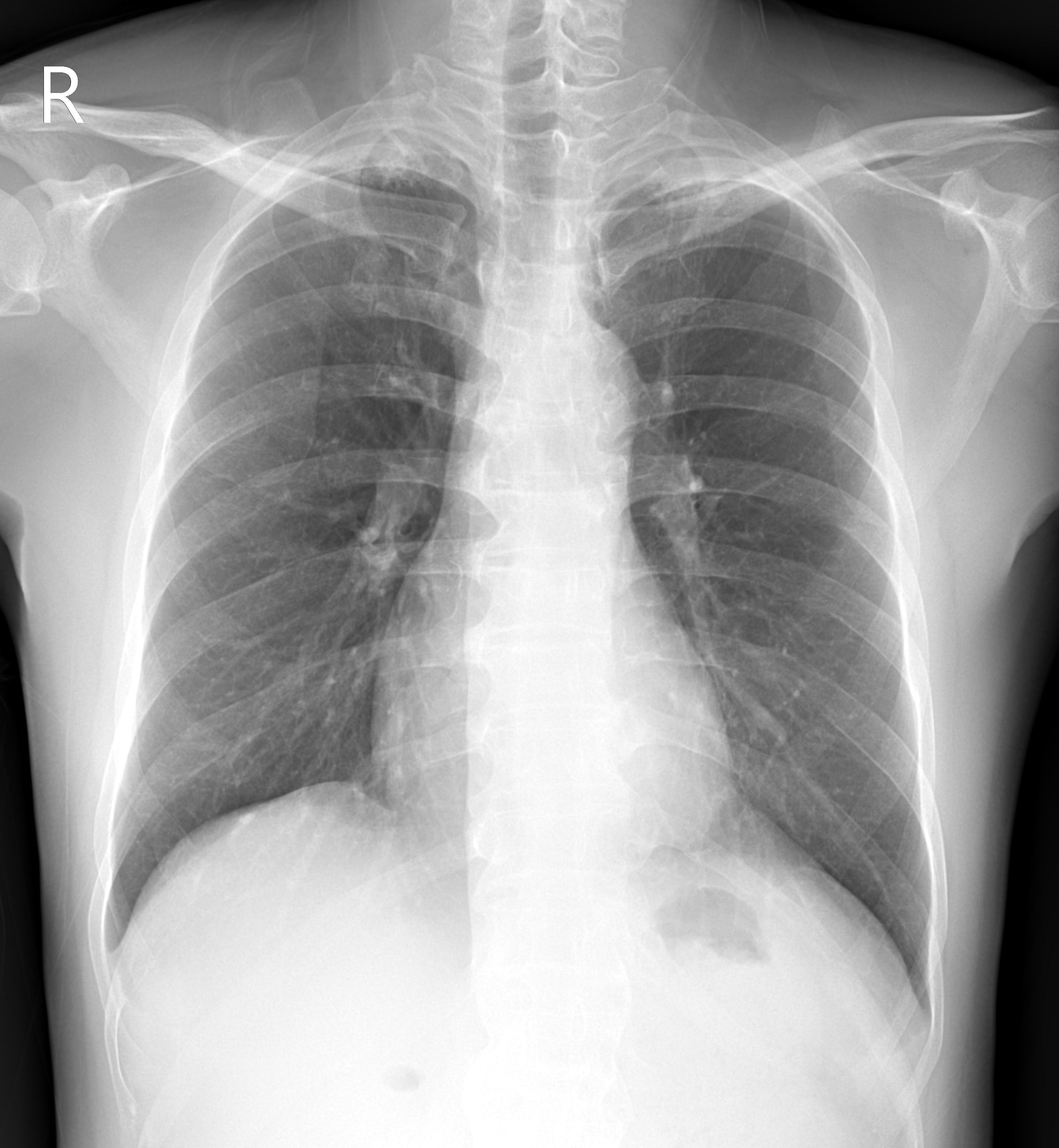Pleural thickening: (623, 139, 787, 238), (303, 124, 467, 181)
Pulmonary fibrosis: (623, 139, 787, 238), (303, 124, 467, 181)
